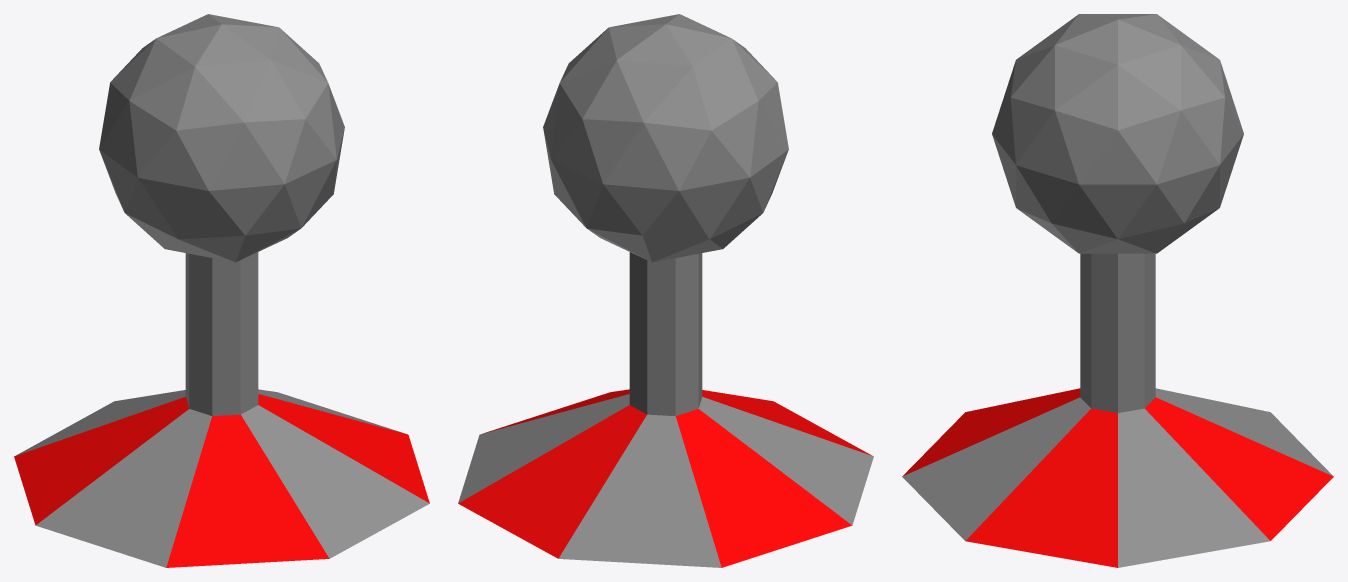
Rendered from TurretBase.fbx.
3 renders of one model, left to right at view 1: azimuth 30°, elevation 25°; view 2: azimuth 150°, elevation 25°; view 3: azimuth 270°, elevation 25°, orthographic.
Parts seen in each view (by area): view 1: Base; view 2: Base; view 3: Base.
Boxes of the visible parts, x1,y1,x2,y2 form: Base: [14, 14, 429, 567]; Base: [458, 14, 873, 567]; Base: [902, 14, 1333, 567].
Bounding box in the file's own units: 200 × 234 × 200.
Materials: 1 (1 with a texture image).
